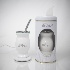guampa: (9, 20, 35, 62)
